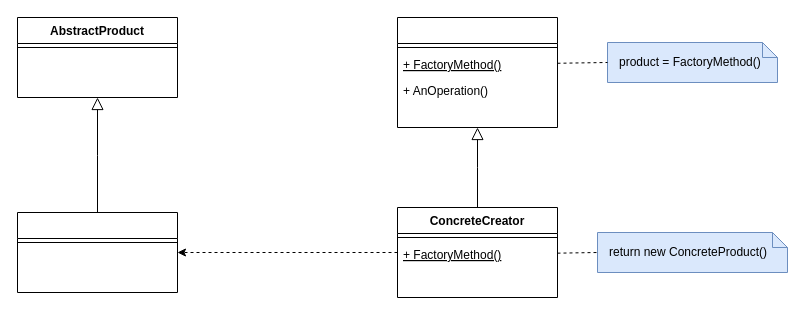
This 805x315 diagram has some shape labels left out. Here are the shapes that lost their labels. From the top down, the box of each, then its label:
(396, 16, 558, 128): Creator
(16, 212, 178, 292): ConcreteProduct
